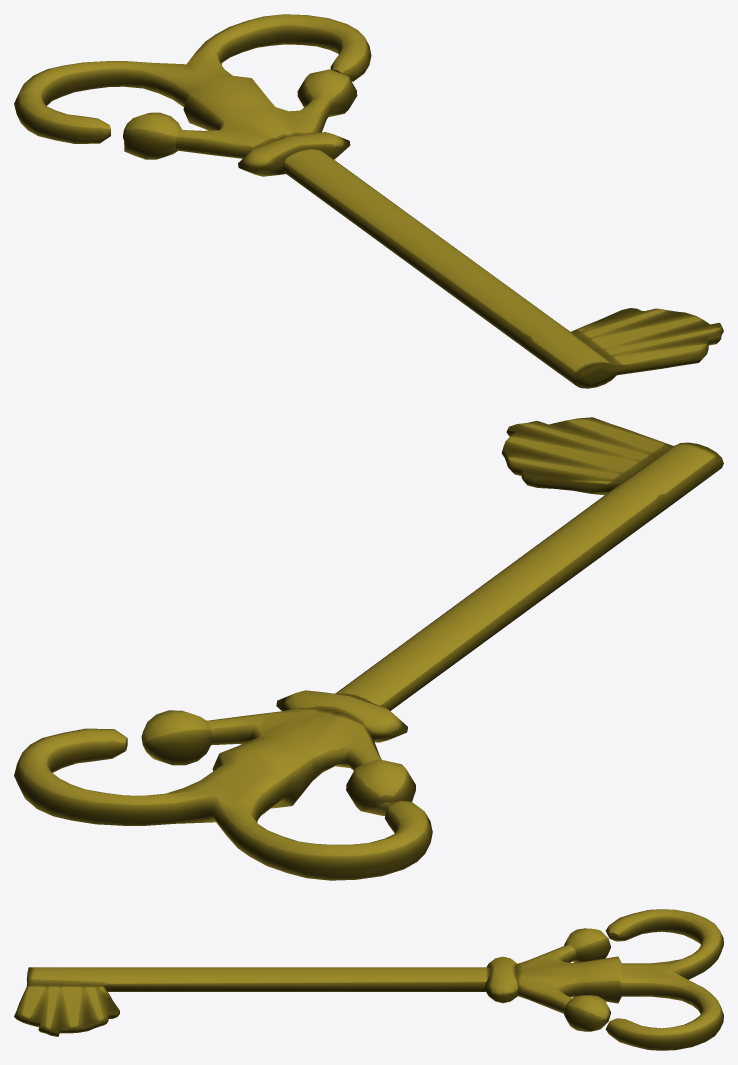
Rendered from BgMD_key (1).fbx.
3 renders of one model, top to bottom at view 1: azimuth 30°, elevation 25°; view 2: azimuth 150°, elevation 25°; view 3: azimuth 270°, elevation 25°, orthographic. The views are drawn at different scales.
Parts seen in each view (by area): view 1: Bg_Key2; view 2: Bg_Key2; view 3: Bg_Key2.
Part boxes in pixels (left/top/right/bottom): Bg_Key2: left=14, top=14, right=723, bottom=388; Bg_Key2: left=14, top=417, right=723, bottom=880; Bg_Key2: left=14, top=909, right=723, bottom=1050.
Bounding box in the file's own units: 32.33 × 4.31 × 75.1.
Materials: 1 (1 with a texture image).
